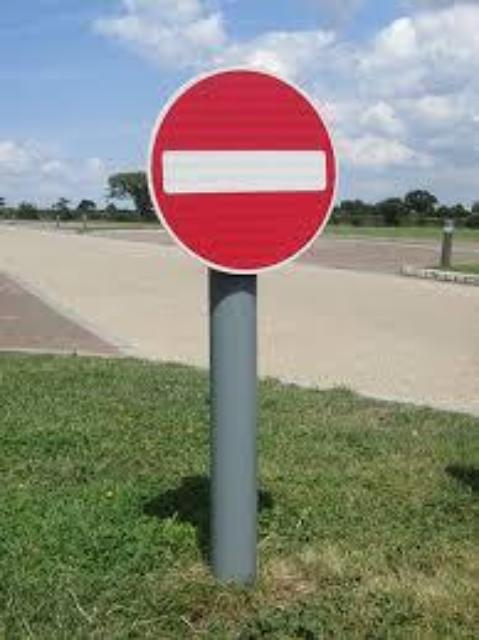B2: (141, 62, 341, 276)
